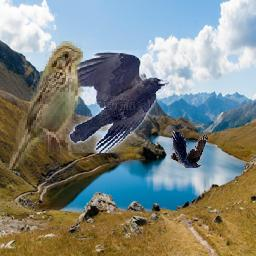Crow: (65, 51, 169, 154), (170, 130, 208, 168)
Sparrow: (5, 41, 83, 169)
